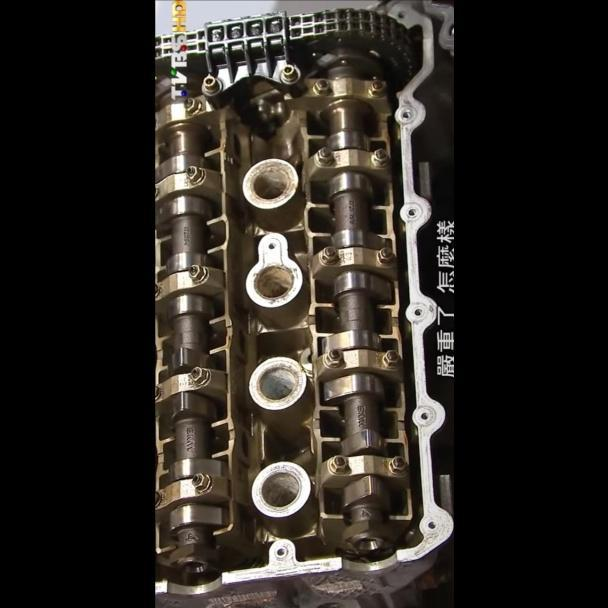hole: (275, 547, 287, 556), (427, 520, 437, 530), (407, 207, 417, 216), (414, 307, 423, 316), (402, 109, 410, 118), (421, 411, 429, 419)
